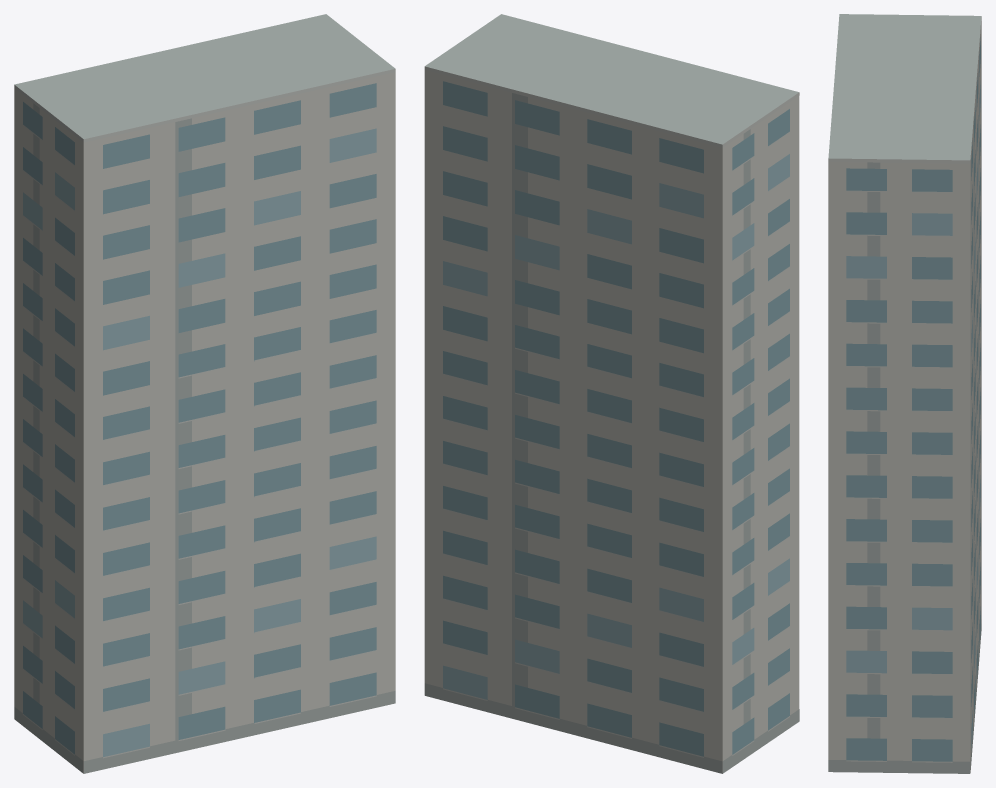
Rendered from residential-f8badfbb-bc7c-464b-b161-12b4b19daf48.glb.
3 views of the same model, side by side, from view 1: azimuth 30°, elevation 25°; view 2: azimuth 150°, elevation 25°; view 3: azimuth 270°, elevation 25° (orthographic). The views are drawn at different scales.
Visible parts, largest first — view 1: residential-f8badfbb-bc7c-464b-b161-12b4b19daf48.tmp; view 2: residential-f8badfbb-bc7c-464b-b161-12b4b19daf48.tmp; view 3: residential-f8badfbb-bc7c-464b-b161-12b4b19daf48.tmp.
Part boxes in pixels (x1=…): residential-f8badfbb-bc7c-464b-b161-12b4b19daf48.tmp: x1=14, y1=14, x2=395, y2=773; residential-f8badfbb-bc7c-464b-b161-12b4b19daf48.tmp: x1=424, y1=14, x2=799, y2=773; residential-f8badfbb-bc7c-464b-b161-12b4b19daf48.tmp: x1=828, y1=14, x2=981, y2=773.
Size of the model in its own units: 22.52 by 44 by 9.96.
